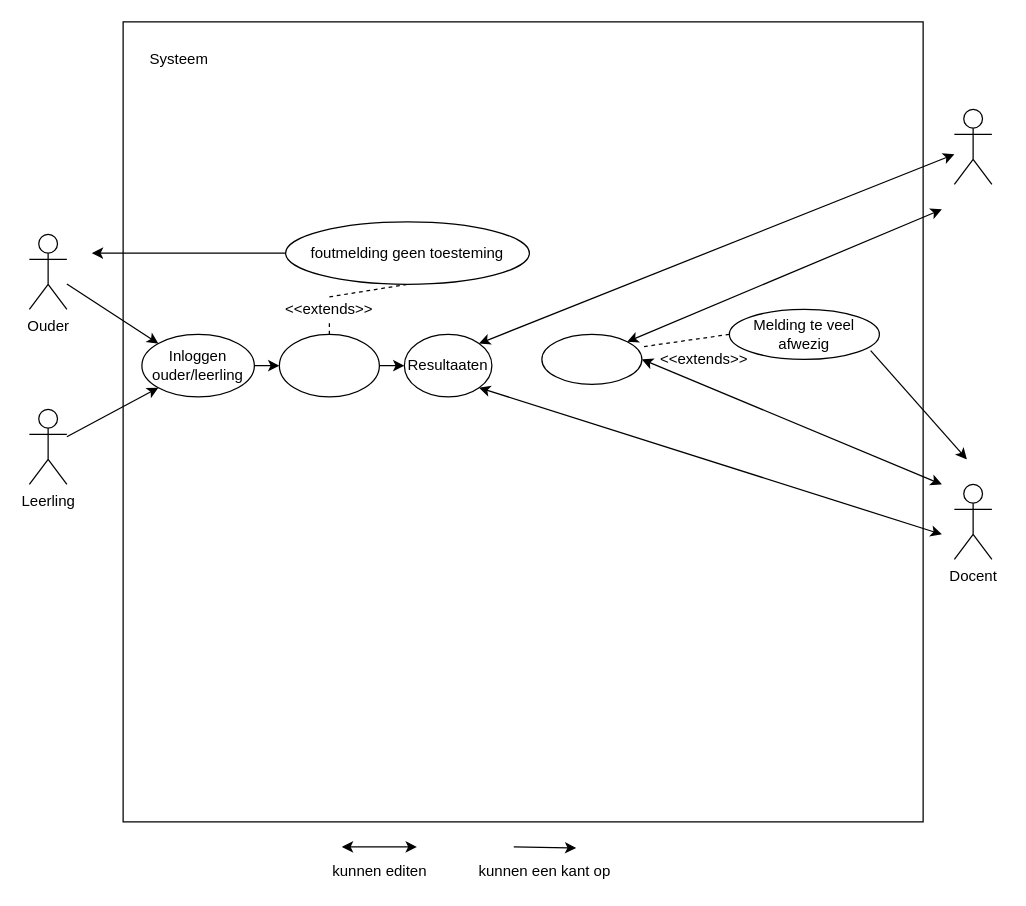
The diagram is 1026 pixels wide and 906 high, and some of its shapes have lost their labels. Here are the shapes that lost their labels. From the top down, the box of each, then its label:
(953, 108, 992, 184): Database
(278, 333, 379, 397): toestemming resultaaten
(541, 333, 642, 384): aanwezigheid
